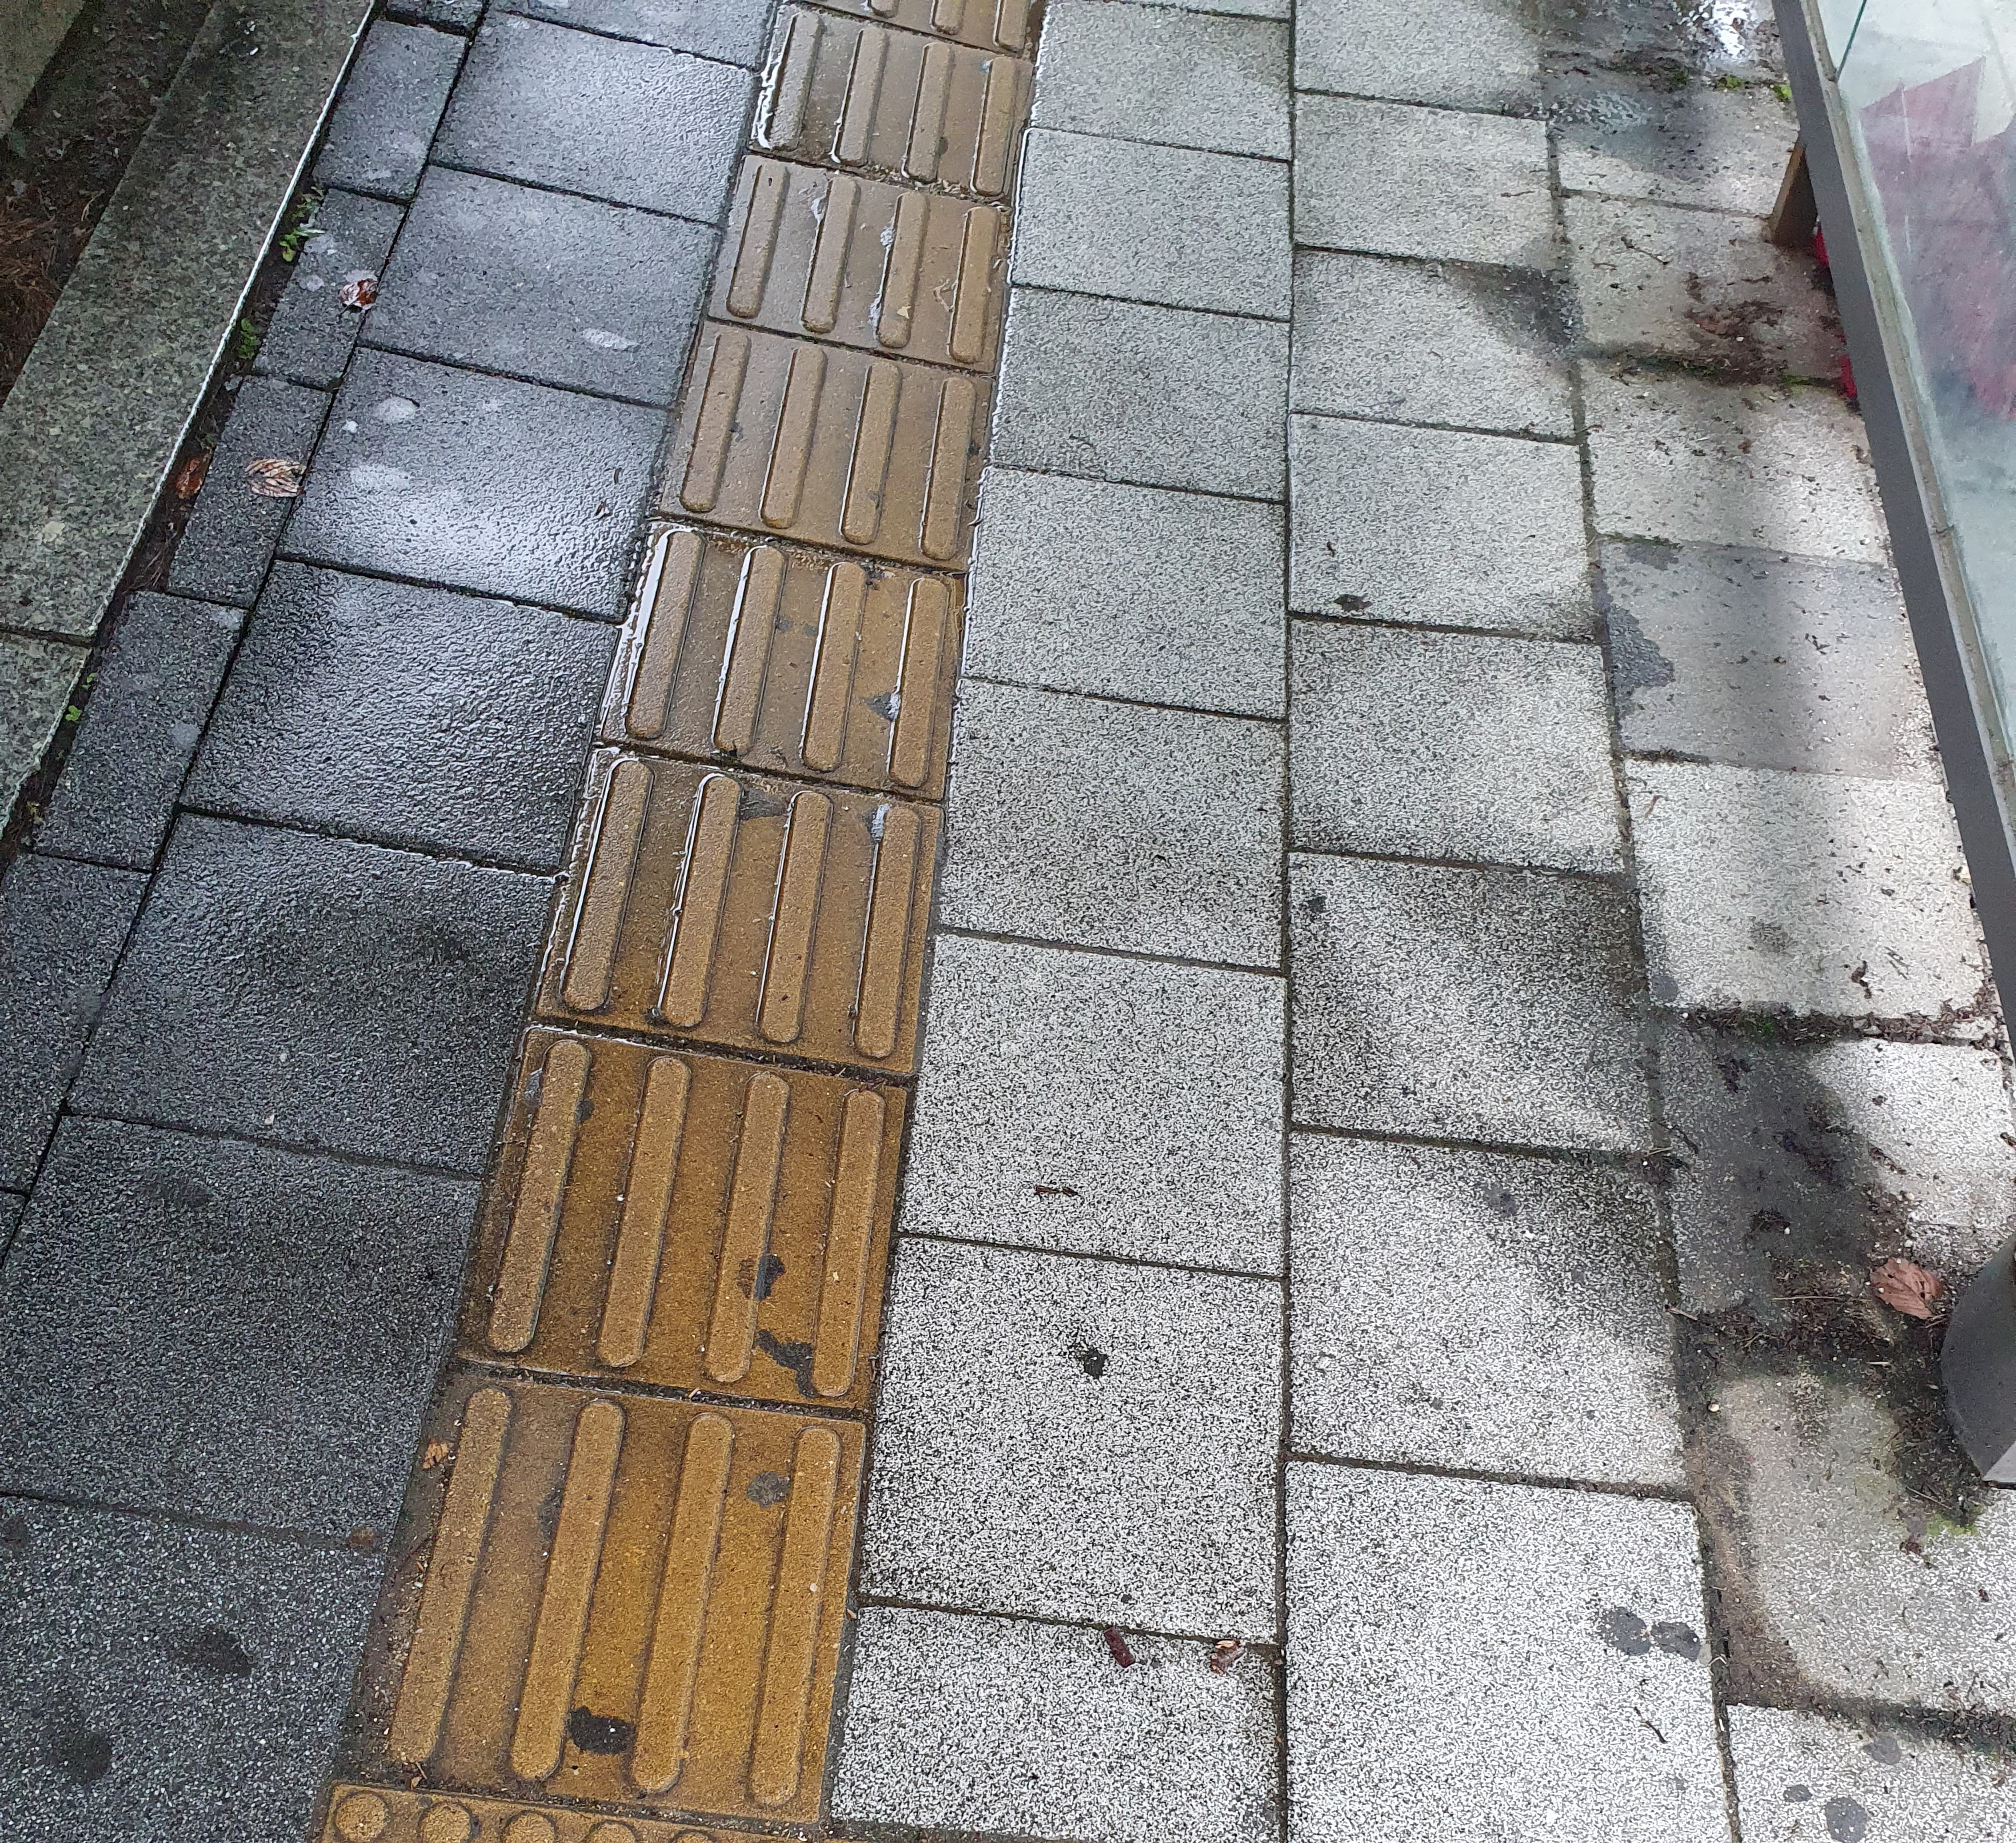guideBlock: (436, 1376, 820, 1838), (518, 1058, 906, 1388), (590, 732, 925, 1039), (632, 532, 941, 785), (685, 312, 996, 560), (734, 133, 1001, 356), (801, 23, 1022, 197)
